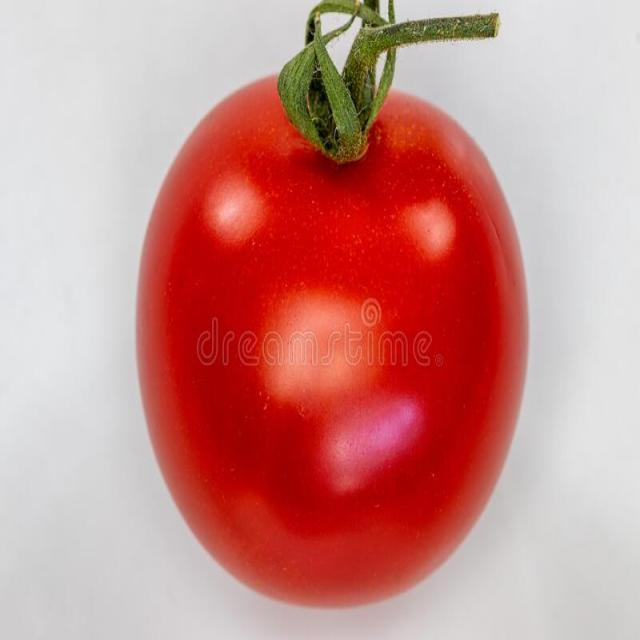kirmizi: (132, 38, 530, 614)
